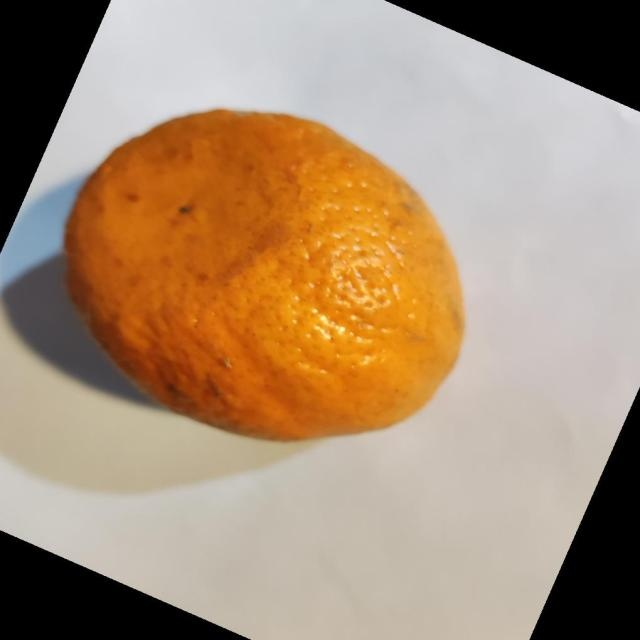agrume: (62, 107, 466, 442)
